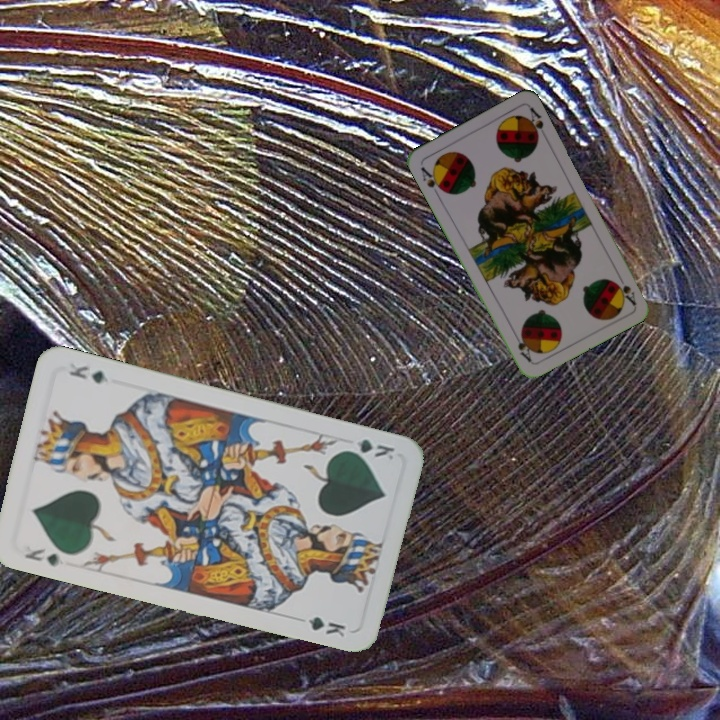GK: (339, 435, 397, 463), (21, 544, 62, 569)
SA: (416, 163, 447, 199), (611, 270, 639, 308)
